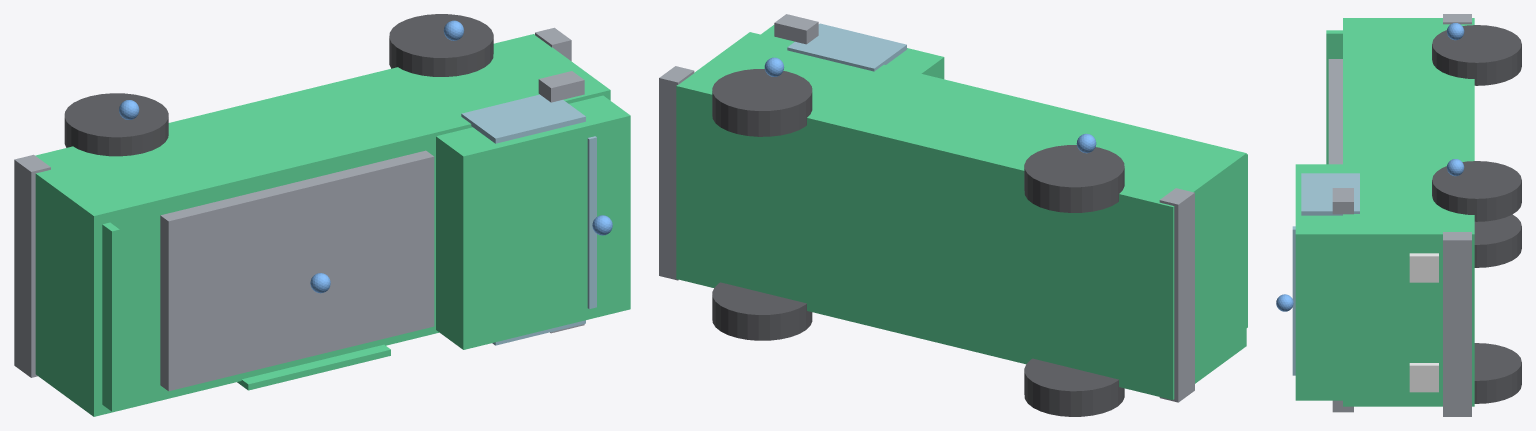
File: van_inspection.glb
3 renders of one model, left to right at view 1: azimuth 30°, elevation 25°; view 2: azimuth 150°, elevation 25°; view 3: azimuth 270°, elevation 25°, orthographic. The views are drawn at different scales.
Parts seen in each view (by area): view 1: EXT_body, INT_load_area, EXT_cabin, EXT_wheel_rear_left, EXT_wheel_front_left, EXT_rear_bumper, EXT_left_window, EXT_rear_door, EXT_sliding_door, EXT_windscreen, EXT_mirror_left, EXT_front_bumper; view 2: EXT_body, EXT_wheel_front_left, EXT_wheel_rear_left, EXT_rear_bumper, EXT_wheel_front_right, EXT_wheel_rear_right, EXT_front_bumper, EXT_left_window, EXT_cabin, EXT_mirror_left; view 3: EXT_body, EXT_cabin, EXT_front_bumper, EXT_wheel_front_left, EXT_wheel_rear_left, EXT_wheel_front_right, EXT_wheel_rear_right, EXT_left_window, INT_load_area, EXT_headlight_left, EXT_headlight_right, EXT_rear_door (+6 smaller).
Part boxes in pixels (<box>): EXT_body: <box>35,34,610,416</box>; INT_load_area: <box>160,150,434,391</box>; EXT_cabin: <box>436,95,630,349</box>; EXT_wheel_rear_left: <box>64,93,168,156</box>; EXT_wheel_front_left: <box>389,14,493,76</box>; EXT_rear_bumper: <box>14,154,50,377</box>; EXT_left_window: <box>461,94,585,143</box>; EXT_rear_door: <box>102,222,119,411</box>; EXT_sliding_door: <box>237,344,390,390</box>; EXT_windscreen: <box>587,136,596,309</box>; EXT_mirror_left: <box>538,71,584,102</box>; EXT_front_bumper: <box>535,27,571,61</box>; EXT_body: <box>676,32,1246,399</box>; EXT_wheel_front_left: <box>712,69,812,136</box>; EXT_wheel_rear_left: <box>1024,145,1124,212</box>; EXT_rear_bumper: <box>1159,188,1194,402</box>; EXT_wheel_front_right: <box>712,282,812,340</box>; EXT_wheel_rear_right: <box>1024,358,1124,416</box>; EXT_front_bumper: <box>659,66,694,280</box>; EXT_left_window: <box>787,23,906,71</box>; EXT_cabin: <box>761,25,944,79</box>; EXT_mirror_left: <box>774,14,818,44</box>; EXT_body: <box>1343,18,1474,406</box>; EXT_cabin: <box>1295,164,1342,400</box>; EXT_front_bumper: <box>1443,232,1471,416</box>; EXT_wheel_front_left: <box>1432,161,1521,221</box>; EXT_wheel_rear_left: <box>1432,25,1521,85</box>; EXT_wheel_front_right: <box>1474,343,1521,403</box>; EXT_wheel_rear_right: <box>1474,214,1521,267</box>; EXT_left_window: <box>1301,173,1359,215</box>; INT_load_area: <box>1328,59,1342,164</box>; EXT_headlight_left: <box>1409,253,1438,282</box>; EXT_headlight_right: <box>1409,363,1438,392</box>; EXT_rear_door: <box>1326,30,1342,164</box>.
Size of the model in its own units: 5.49 by 2.78 by 2.52.
